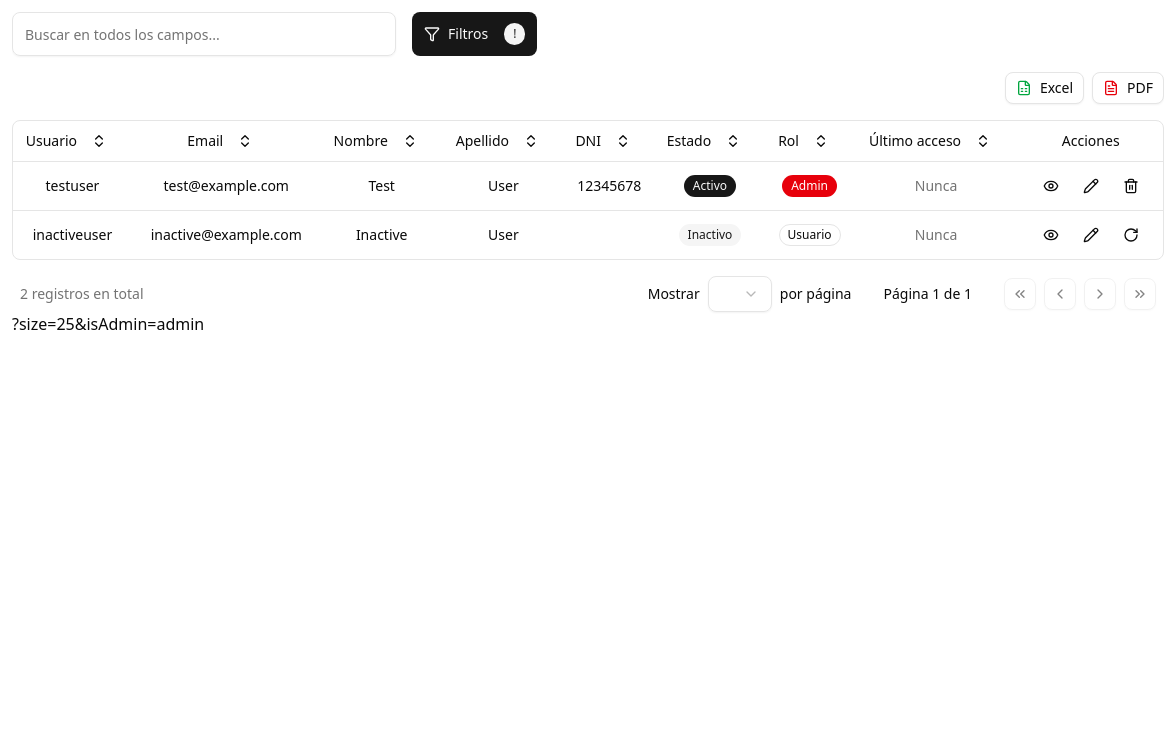
Test case: UsersTable › preserves search and filter interactions and exposes an accessible clear action
This screenshot has width=1176, height=732.
Type "ana" into the field with placeholder "Buscar en todos los campos..." at (204, 34), box [12, 12, 396, 56]
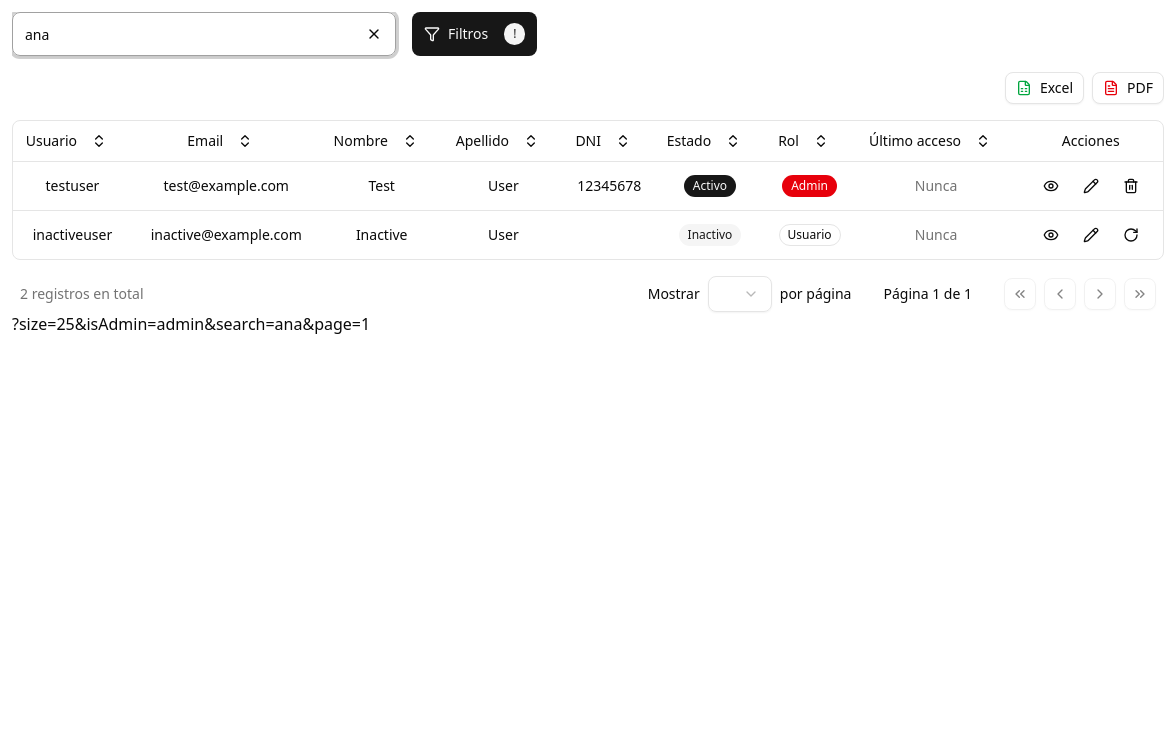
Expected: the text with test id "location-search" shows "size=25", [12, 312, 370, 334]
Now the text with test id "location-search" shows "search=ana", box [12, 312, 370, 334]
Now the text with test id "location-search" shows "page=1", box [12, 312, 370, 334]
Click the button named "Limpiar búsqueda" at (374, 34), box [352, 12, 396, 56]
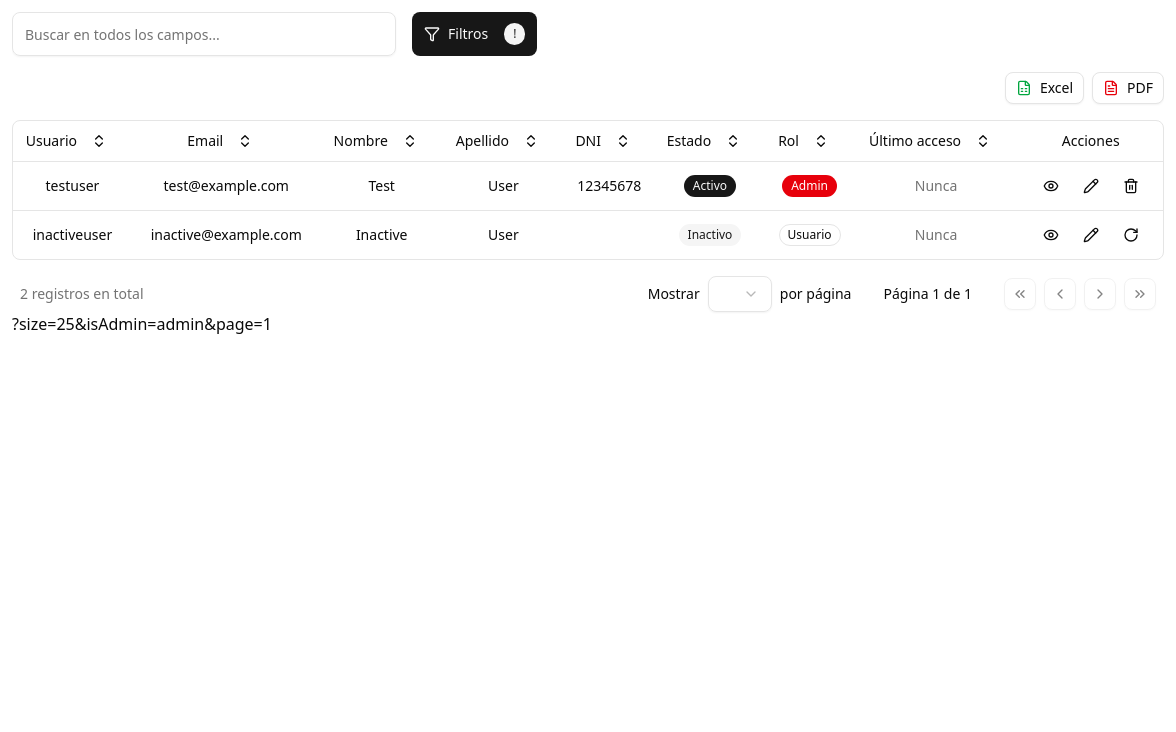
Expected: the text with test id "location-search" shows "size=25", [12, 312, 272, 334]
Now the field with placeholder "Buscar en todos los campos..." is empty, box [12, 12, 396, 56]
Now the text with test id "location-search" no longer shows "search=", box [12, 312, 272, 334]
Click the button "Filtros !" at (475, 34), box [412, 12, 538, 56]
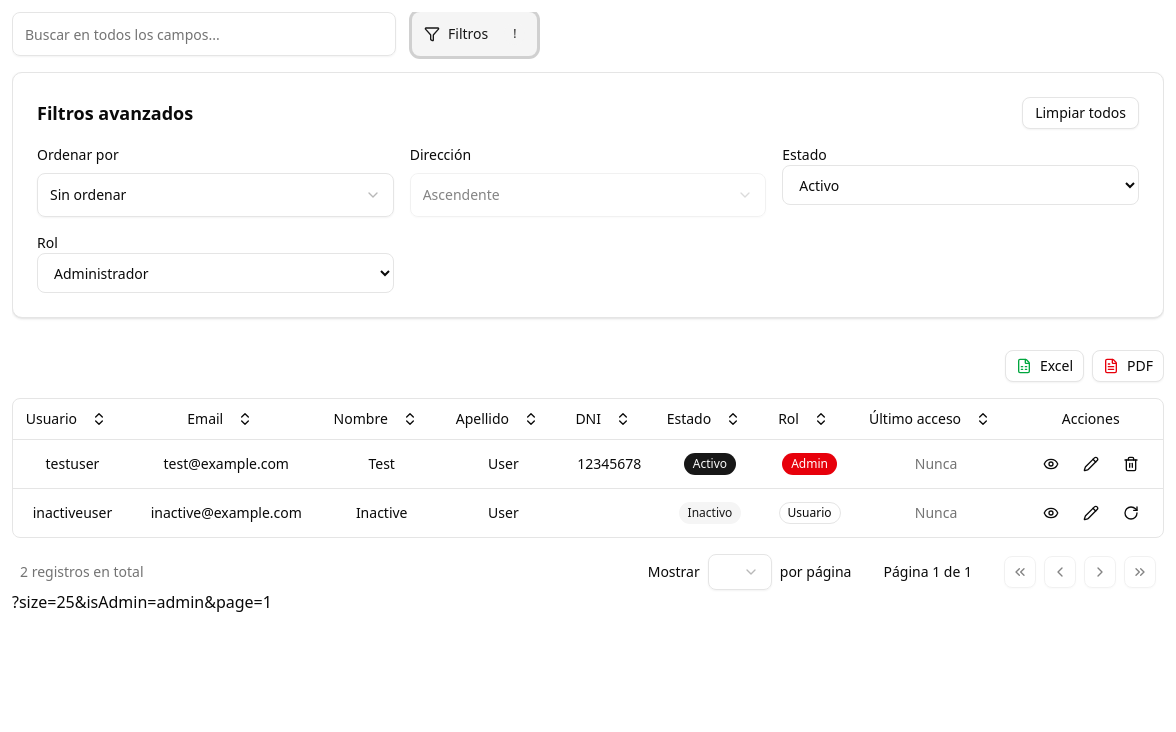
Now the heading "Filtros avanzados" is shown, box [37, 99, 193, 127]
Now the dropdown named "Ordenar por" is shown, box [37, 173, 394, 217]
Now the dropdown named "Dirección" is shown, box [410, 173, 766, 217]
